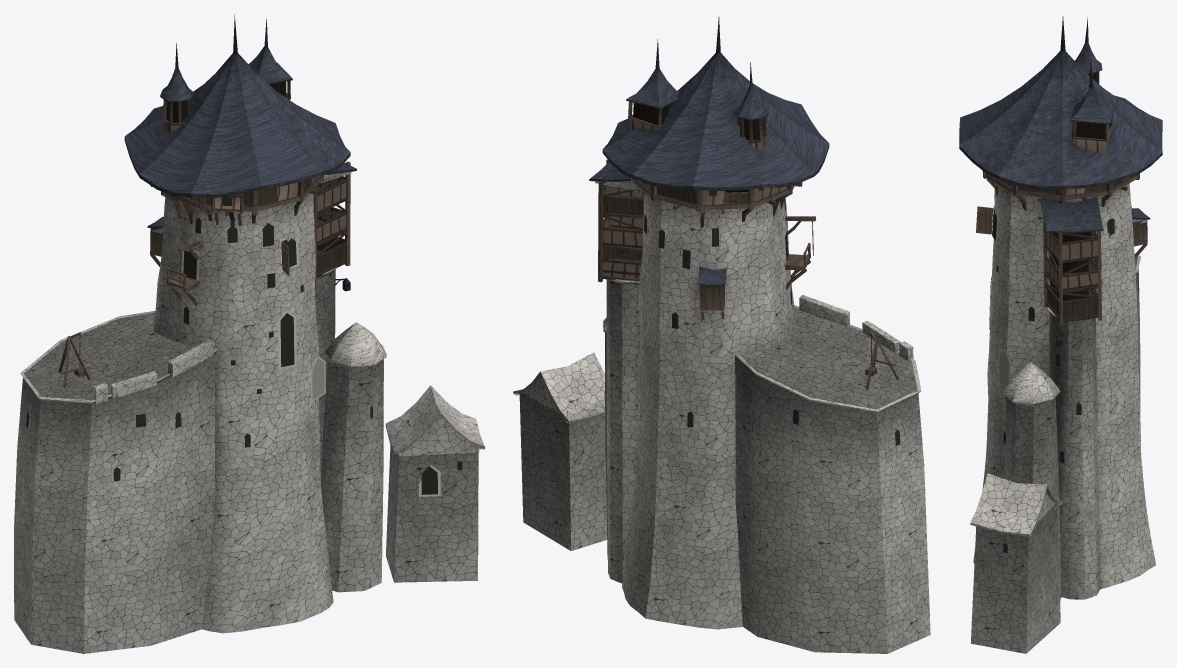
File: torre_lowpoly_draco.glb
3 renders of one model, left to right at view 1: azimuth 30°, elevation 25°; view 2: azimuth 150°, elevation 25°; view 3: azimuth 270°, elevation 25°, orthographic. The views are drawn at different scales.
Visible parts, largest first — view 1: Torre_Anexos, Torre_Principal; view 2: Torre_Anexos, Torre_Principal; view 3: Torre_Principal, Torre_Anexos.
Boxes of the visible parts, x1=… form: Torre_Anexos: x1=14, y1=161, x2=484, y2=653; Torre_Principal: x1=124, y1=14, x2=350, y2=633; Torre_Anexos: x1=513, y1=159, x2=930, y2=653; Torre_Principal: x1=602, y1=16, x2=829, y2=629; Torre_Principal: x1=959, y1=16, x2=1162, y2=588; Torre_Anexos: x1=970, y1=196, x2=1140, y2=653.
Bounding box in the file's own units: 29.31 × 37.45 × 12.77.
4 materials, 4 textured.
